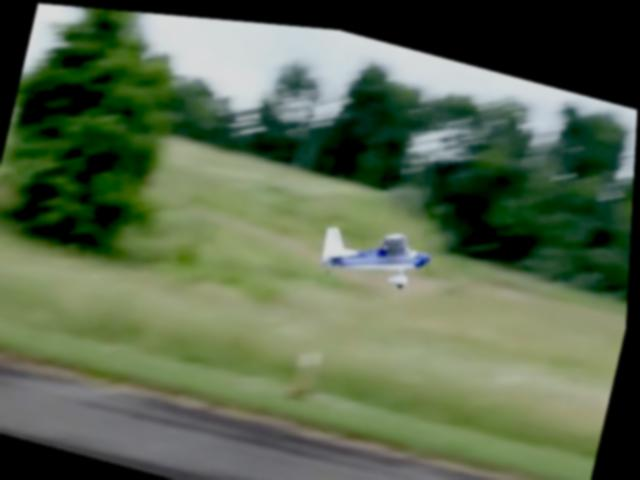uav: (319, 204, 439, 288)
